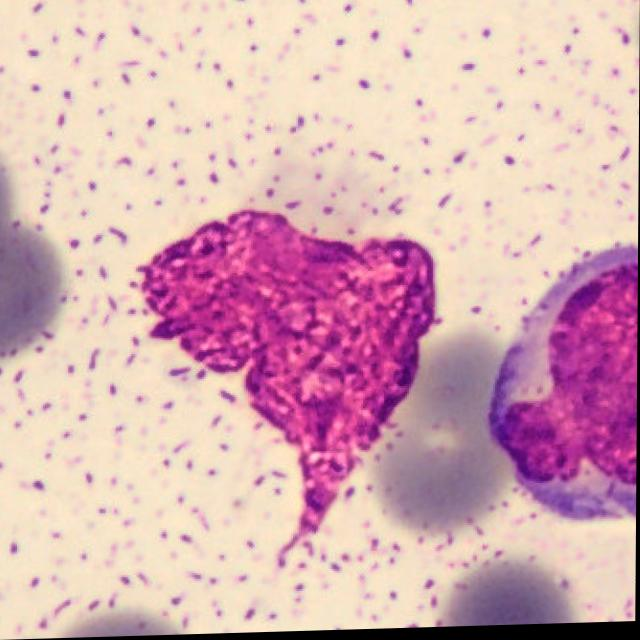Mieloblasto: (488, 252, 638, 526)
Restos celulares: (136, 214, 437, 549)
